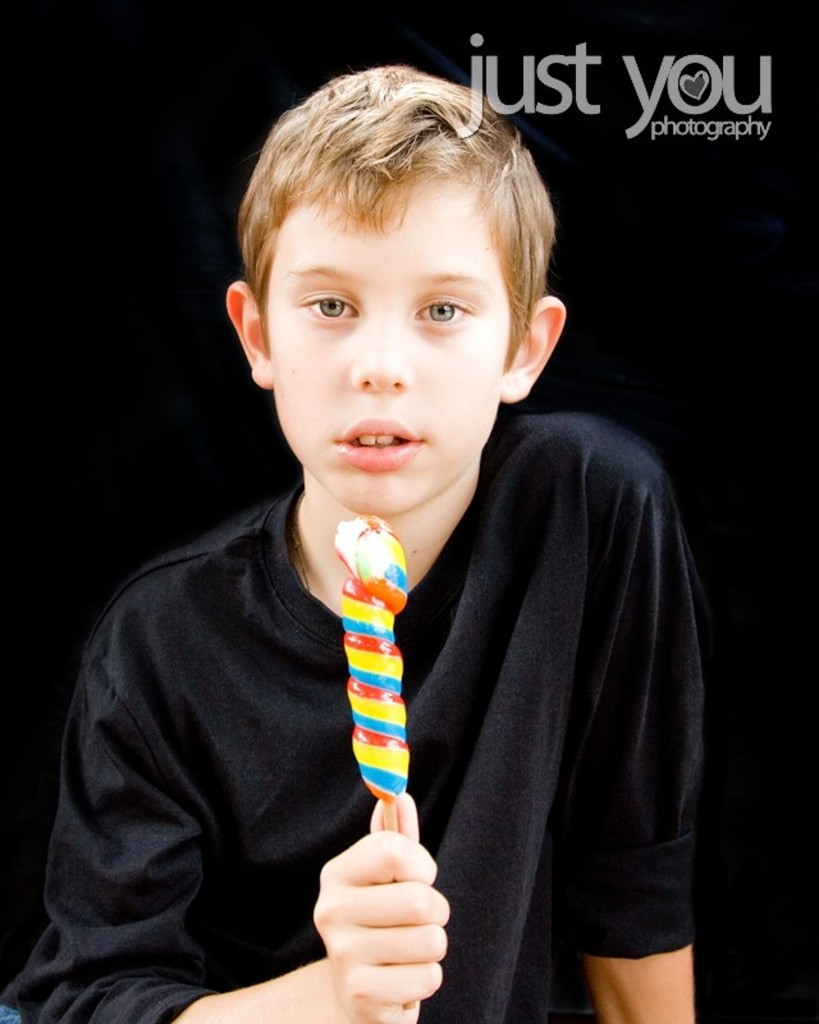Human_hand: (305, 815, 468, 996)
